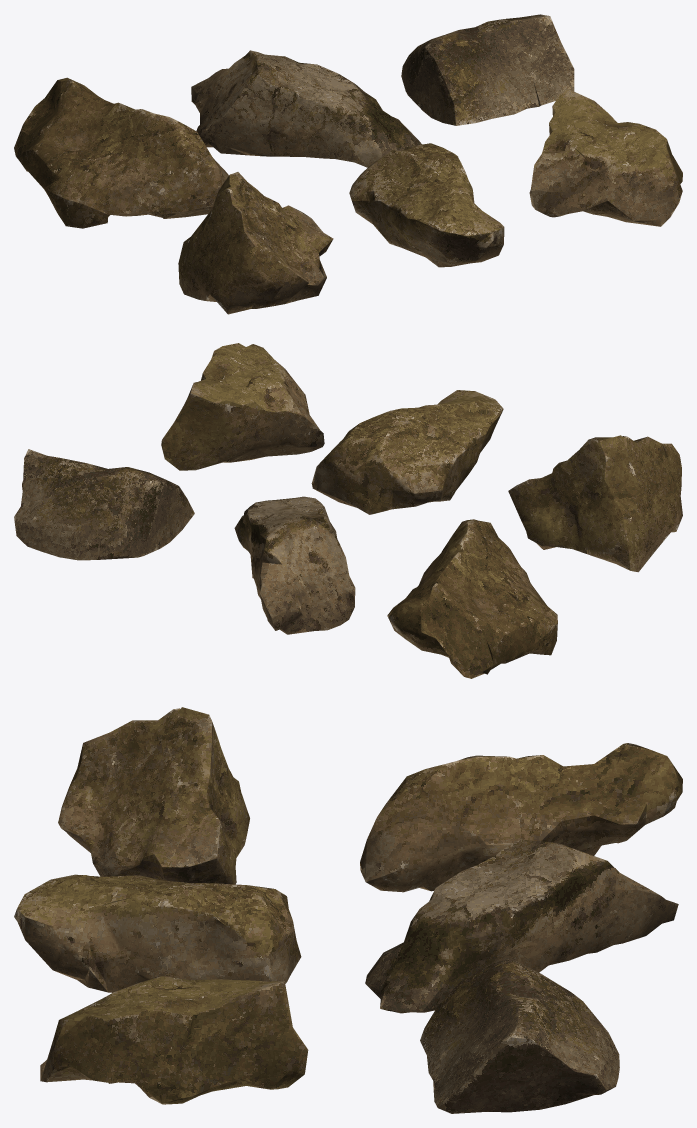
Rendered from rock_moss_set_01.glb.
3 views of the same model, one above another, from view 1: azimuth 30°, elevation 25°; view 2: azimuth 150°, elevation 25°; view 3: azimuth 270°, elevation 25° (orthographic). The views are drawn at different scales.
Parts seen in each view (by area): view 1: mesh; view 2: mesh; view 3: mesh.
Boxes of the visible parts, box(x1,y1,x2,y2) form: mesh: box(14, 14, 682, 314); mesh: box(14, 343, 682, 678); mesh: box(14, 707, 682, 1113).
Bounding box in the file's own units: 8.09 × 1.77 × 7.01.
1 material, 1 textured.
